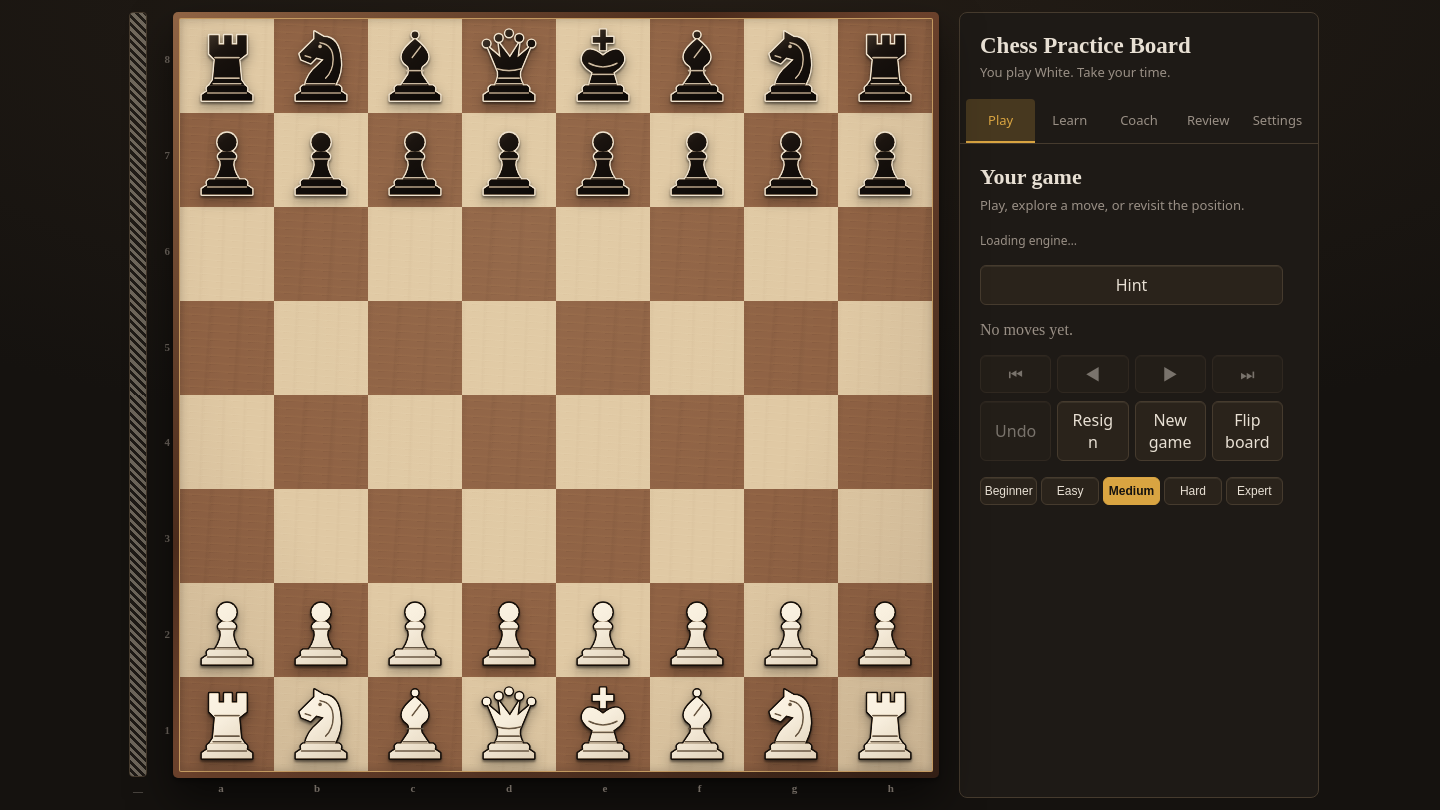
App: modes › leaves the quickstart without tearing the game down
Click the button "Learn".
click(1070, 121)  # box [1035,99,1104,143]
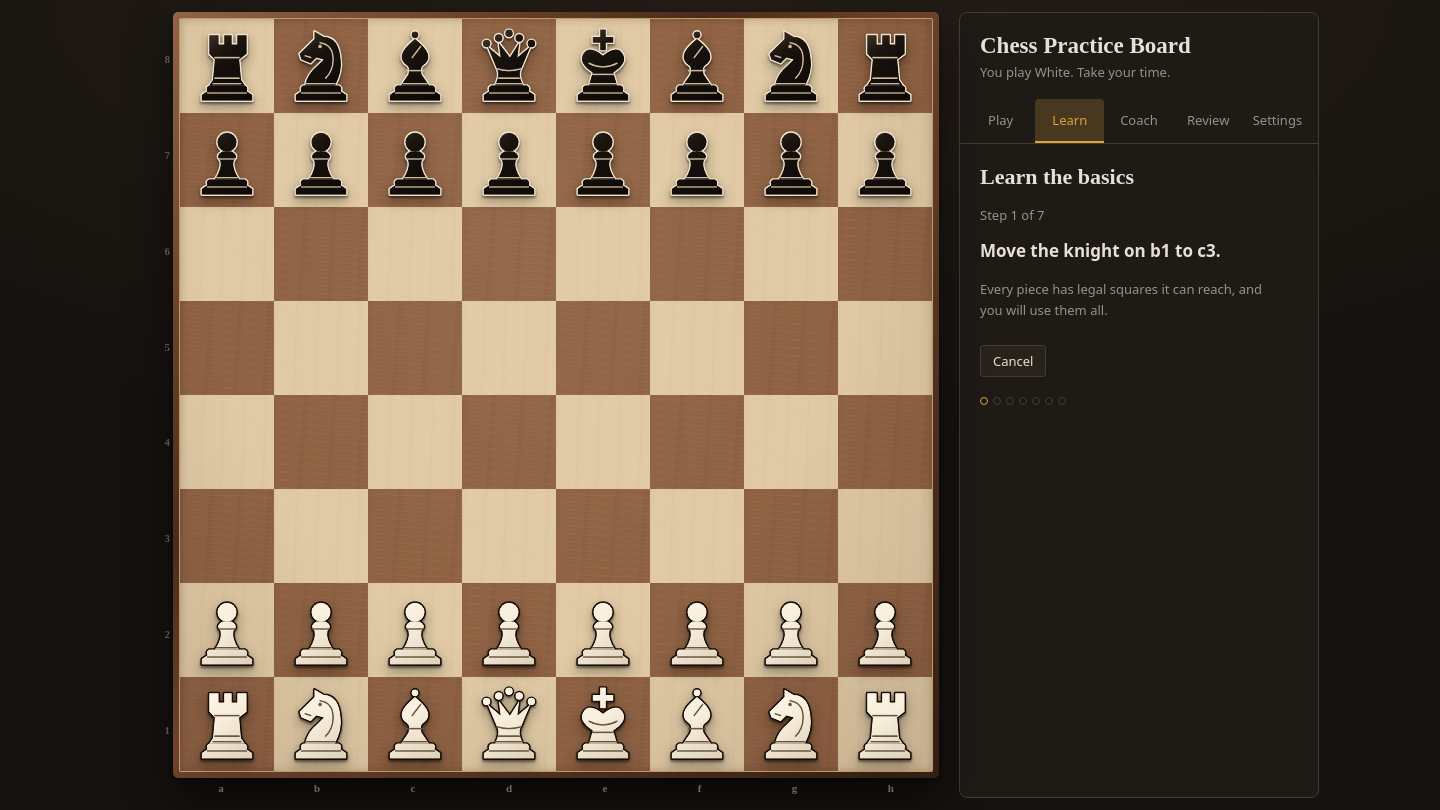
Click the button with test id "quickstart-cancel".
click(1013, 361)  # box [980,345,1046,377]
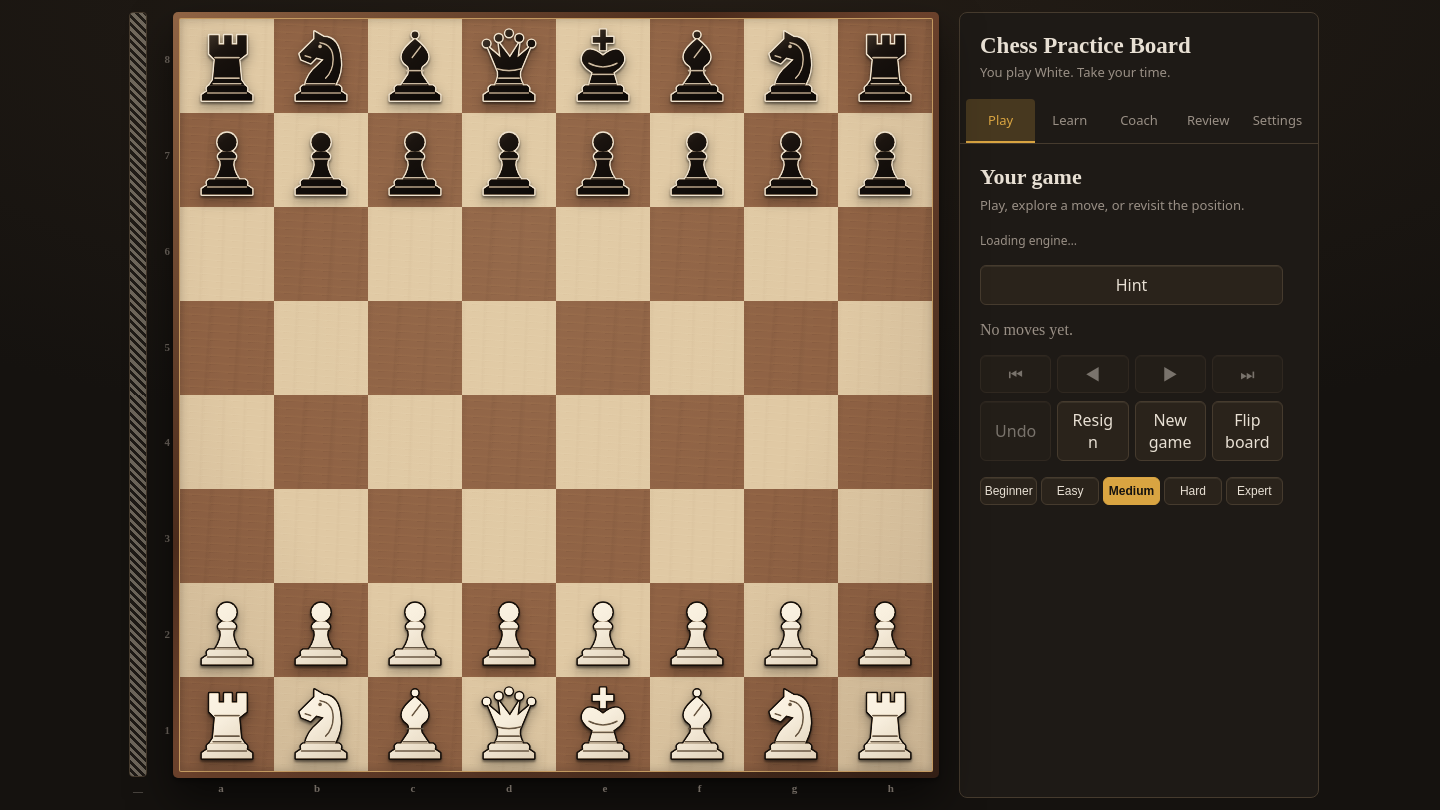
Check: the text with test id "quickstart-progress" is gone
